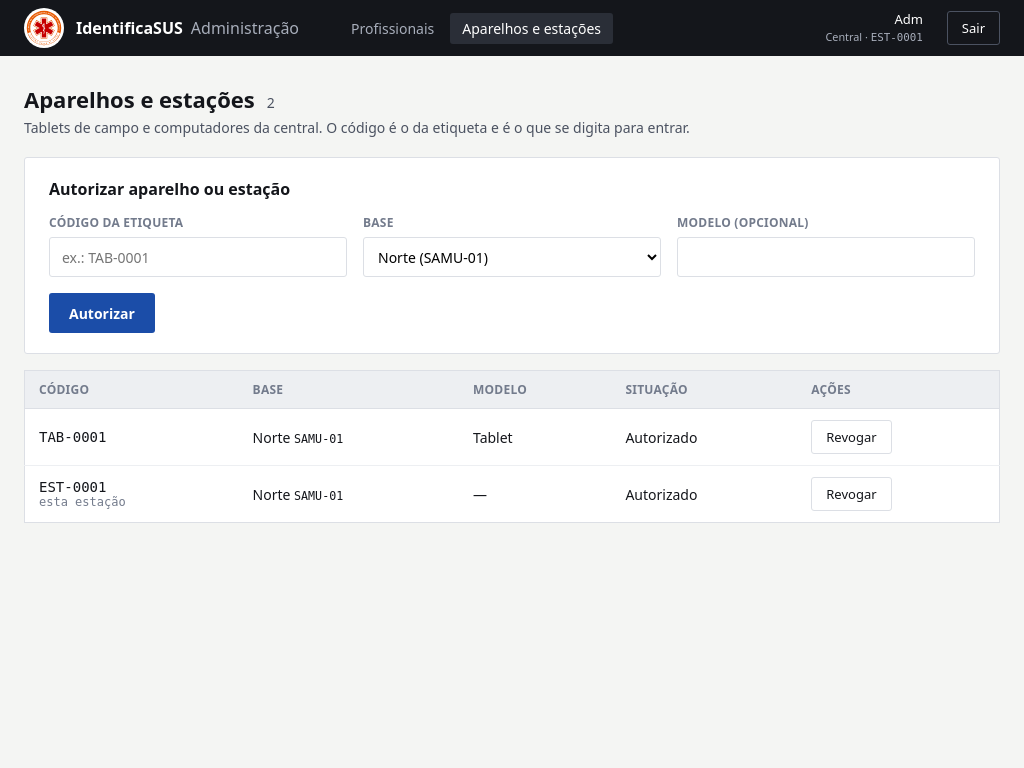
aparelhos e estações › (!) revogar a própria estação avisa que o próximo login nela não entra
Check: the text "esta estação" is shown, box [39, 495, 126, 509]
Click the button "Revogar" in the row of "esta estação": {"x": 851, "y": 494} [811, 477, 892, 511]
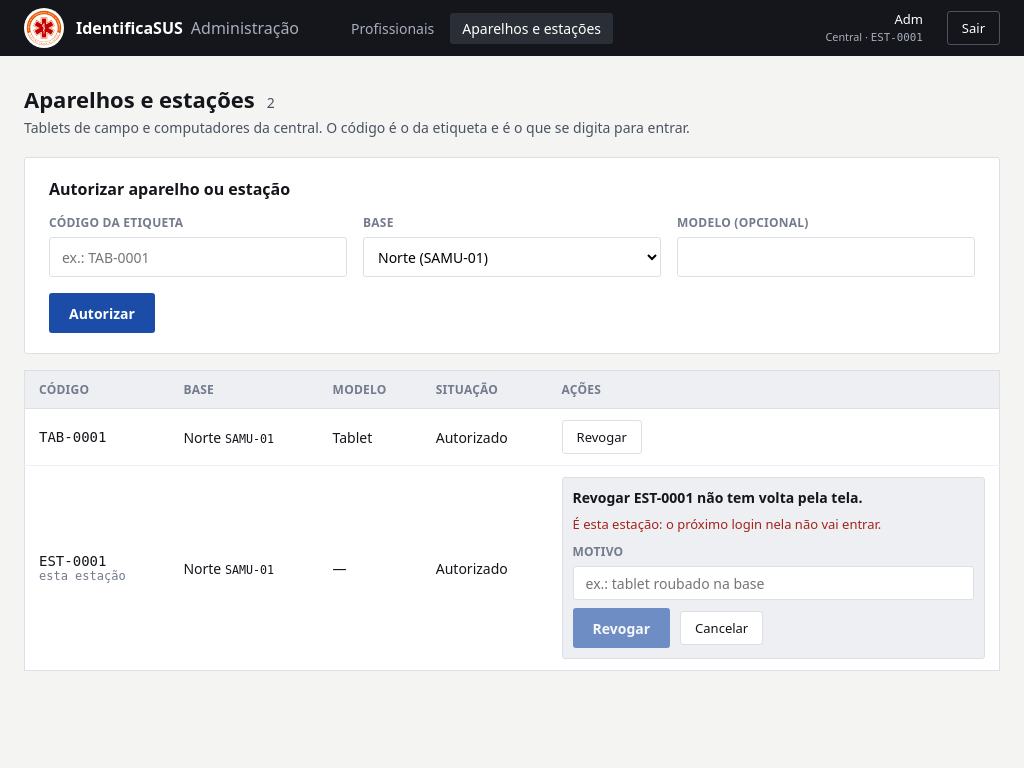
Check: the text "É esta estação: o próximo login nela não vai entrar." is shown, box [573, 515, 881, 533]
